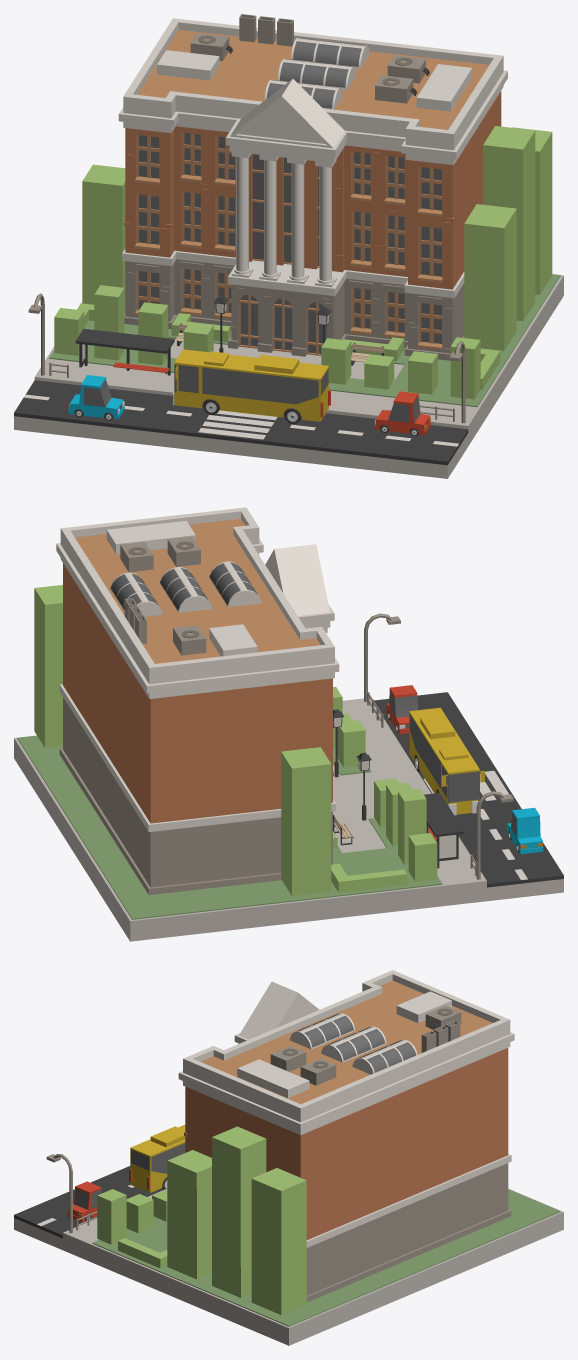
File: school_01.glb
The picture shows the model from 3 angles, top to bottom: view 1: azimuth 30°, elevation 25°; view 2: azimuth 150°, elevation 25°; view 3: azimuth 270°, elevation 25°; orthographic projection. The views are drawn at different scales.
Parts seen in each view (by area): view 1: school.003, bushes.003, ground.003, bus.003, bus stop.003, car blue.003, car red.003, street light.003, sidewalk lights.003; view 2: school.003, ground.003, bushes.003, bus.003, bus stop.003, car blue.003, car red.003, street light.003, sidewalk lights.003; view 3: school.003, bushes.003, ground.003, bus.003, car red.003.
Boxes of the visible parts, x1=… form: school.003: x1=118, y1=14, x2=507, y2=360; bushes.003: x1=54, y1=126, x2=552, y2=399; ground.003: x1=14, y1=274, x2=563, y2=478; bus.003: x1=173, y1=349, x2=330, y2=424; bus stop.003: x1=75, y1=328, x2=174, y2=375; car blue.003: x1=68, y1=366, x2=177, y2=420; car red.003: x1=375, y1=391, x2=430, y2=436; street light.003: x1=28, y1=293, x2=465, y2=423; sidewalk lights.003: x1=213, y1=295, x2=331, y2=352; school.003: x1=56, y1=507, x2=339, y2=894; ground.003: x1=14, y1=692, x2=563, y2=941; bushes.003: x1=34, y1=585, x2=437, y2=895; bus.003: x1=408, y1=707, x2=479, y2=815; bus stop.003: x1=424, y1=793, x2=464, y2=868; car blue.003: x1=441, y1=771, x2=543, y2=854; car red.003: x1=386, y1=685, x2=418, y2=734; street light.003: x1=364, y1=613, x2=513, y2=879; sidewalk lights.003: x1=333, y1=709, x2=371, y2=820; school.003: x1=178, y1=970, x2=514, y2=1302; bushes.003: x1=97, y1=1126, x2=306, y2=1314; ground.003: x1=14, y1=1166, x2=563, y2=1345; bus.003: x1=129, y1=1124, x2=185, y2=1192; car red.003: x1=67, y1=1181, x2=102, y2=1222.
Bounding box in the file's own units: 1.41 × 0.6835 × 1.41.
